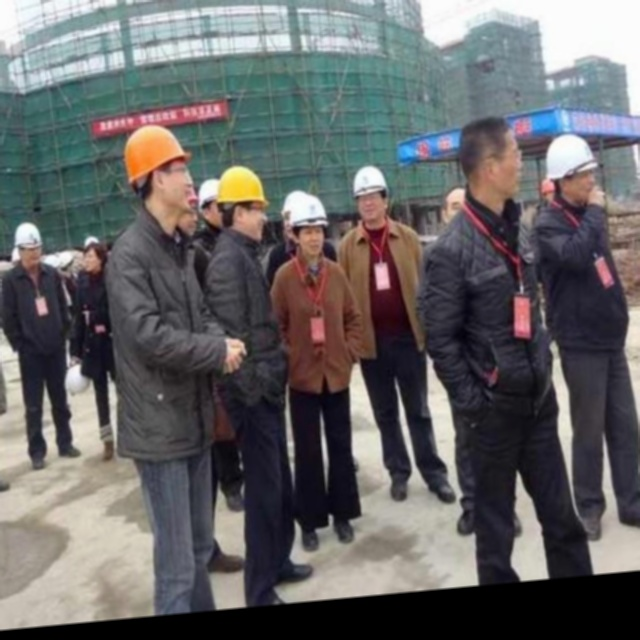Con_Casco: (124, 120, 197, 216), (353, 162, 394, 223)
Sin_Casco_Mascarrilla: (451, 110, 530, 202)
Sin_Chaleco: (278, 255, 358, 399)
